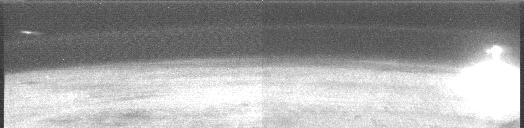positive: (483, 42, 506, 61)
